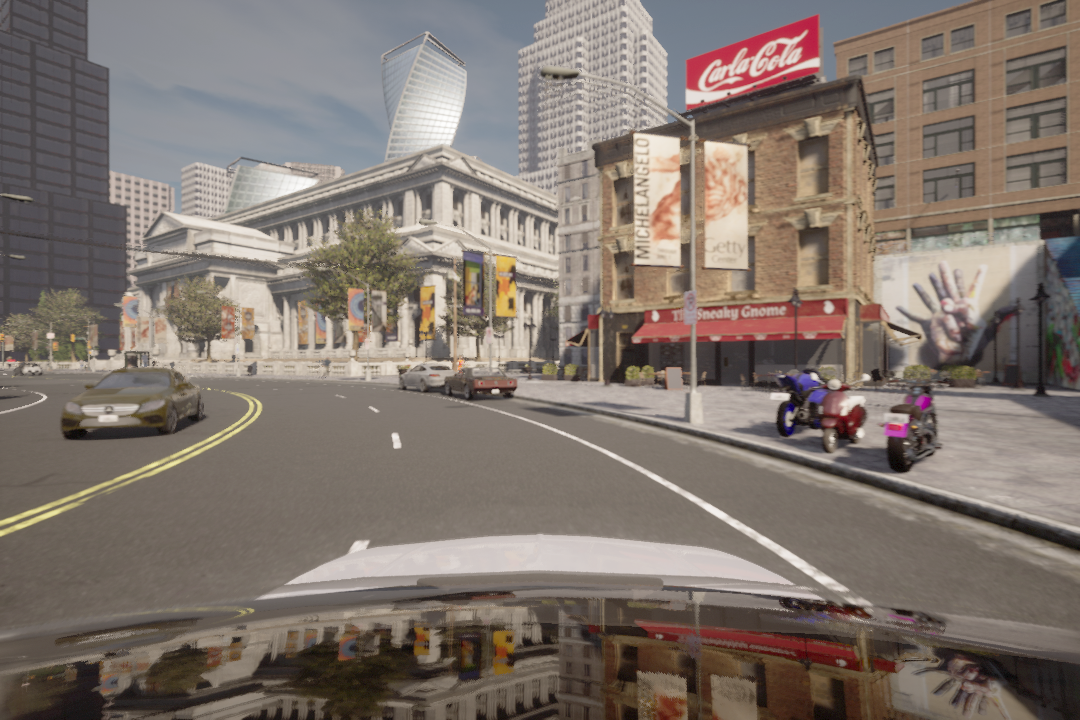TrafficSign_nstop: (685, 290, 697, 324)
